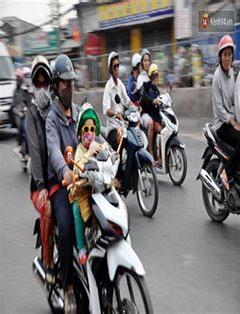motorcycle: (23, 151, 170, 311), (91, 88, 162, 216), (137, 78, 193, 190), (193, 114, 237, 230)
